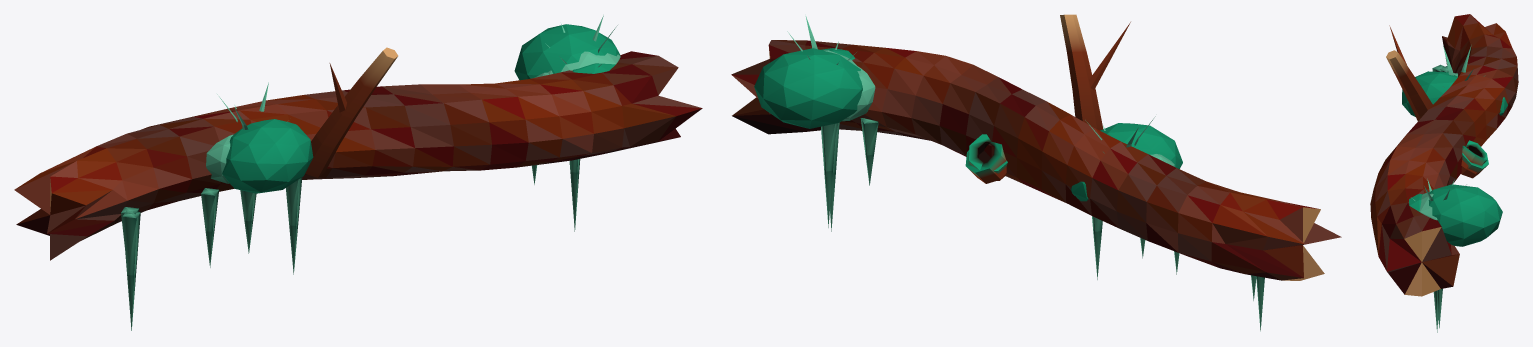
The model's file is pohon_tumbang_bridge_redwood_417985.glb.
3 renders of one model, left to right at view 1: azimuth 30°, elevation 25°; view 2: azimuth 150°, elevation 25°; view 3: azimuth 270°, elevation 25°, orthographic. The views are drawn at different scales.
Visible parts, largest first — view 1: Batang_Melintang_Sungai; view 2: Batang_Melintang_Sungai; view 3: Batang_Melintang_Sungai.
Boxes of the visible parts, bbox=[...] form: Batang_Melintang_Sungai: bbox=[14, 15, 702, 330]; Batang_Melintang_Sungai: bbox=[731, 14, 1341, 331]; Batang_Melintang_Sungai: bbox=[1370, 14, 1518, 332].
Size of the model in its own units: 7.46 by 3 by 1.98.
